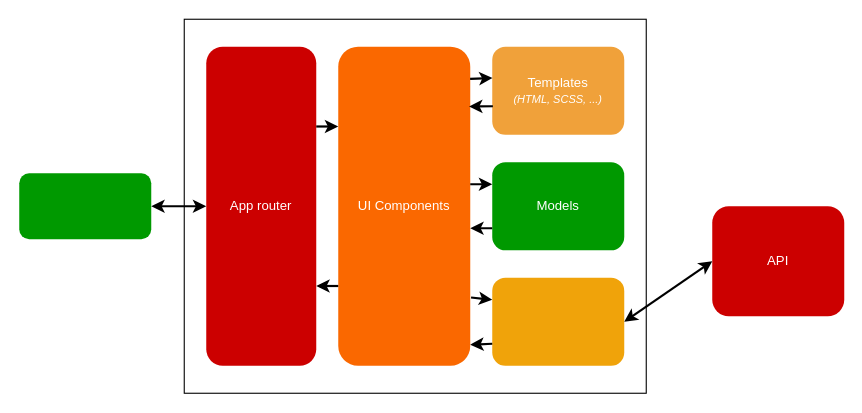
Image size: 862x413. Some labels were removed from this diagram. The shapes that lost their labels are listed below. From the top down, each one's box as (x1, y1, x2, y2) in pixels, then its label:
(19, 173, 151, 239): User
(492, 277, 624, 365): Services
